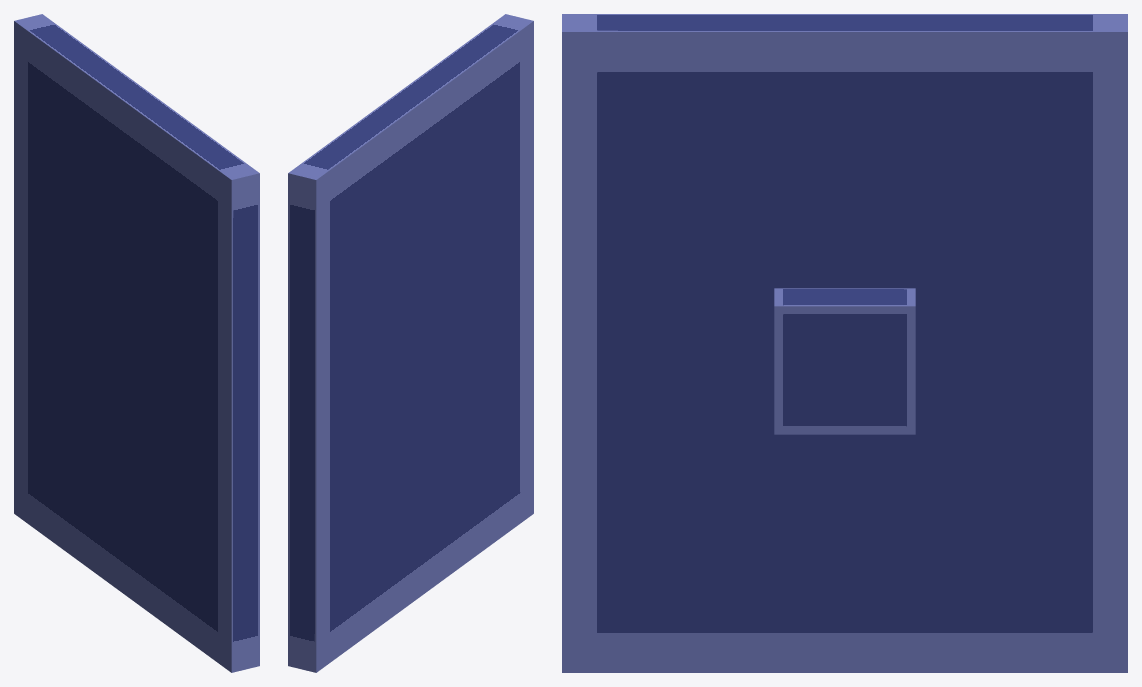
The model's file is shield.glb.
The picture shows the model from 3 angles, left to right: view 1: azimuth 30°, elevation 25°; view 2: azimuth 150°, elevation 25°; view 3: azimuth 270°, elevation 25°; orthographic projection. The views are drawn at different scales.
Parts seen in each view (by area): view 1: shield; view 2: shield; view 3: shield.
Part boxes in pixels (x1,y1,x2,y2): shield: (14, 14, 259, 672); shield: (288, 14, 533, 672); shield: (562, 14, 1127, 672).
Size of the model in its own units: 0.06 by 0.5 by 0.4.
1 material, 1 textured.
